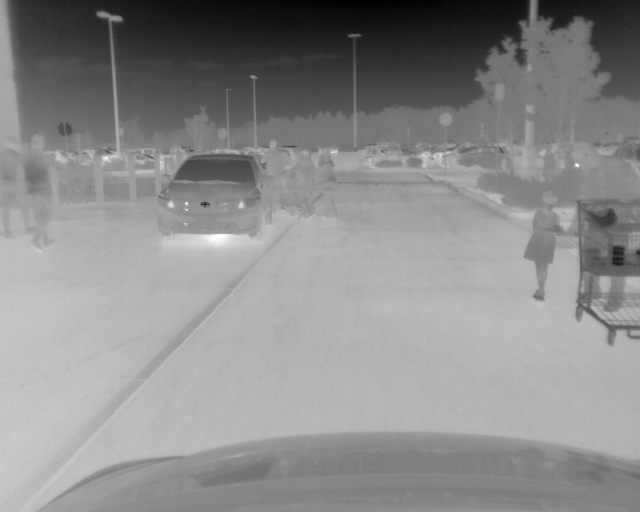car: (155, 155, 272, 240), (441, 145, 510, 170), (369, 147, 421, 166)
people: (569, 139, 640, 304), (523, 188, 567, 299), (25, 136, 57, 252), (1, 136, 33, 237), (287, 150, 314, 220), (260, 138, 282, 215), (314, 147, 337, 219), (542, 144, 556, 183), (562, 144, 571, 181)
